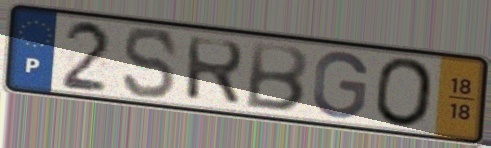2: (58, 18, 113, 97)
B: (241, 39, 311, 115)
G: (310, 49, 372, 122)
O: (374, 55, 437, 130)
R: (183, 34, 247, 109)
S: (121, 25, 180, 101)
